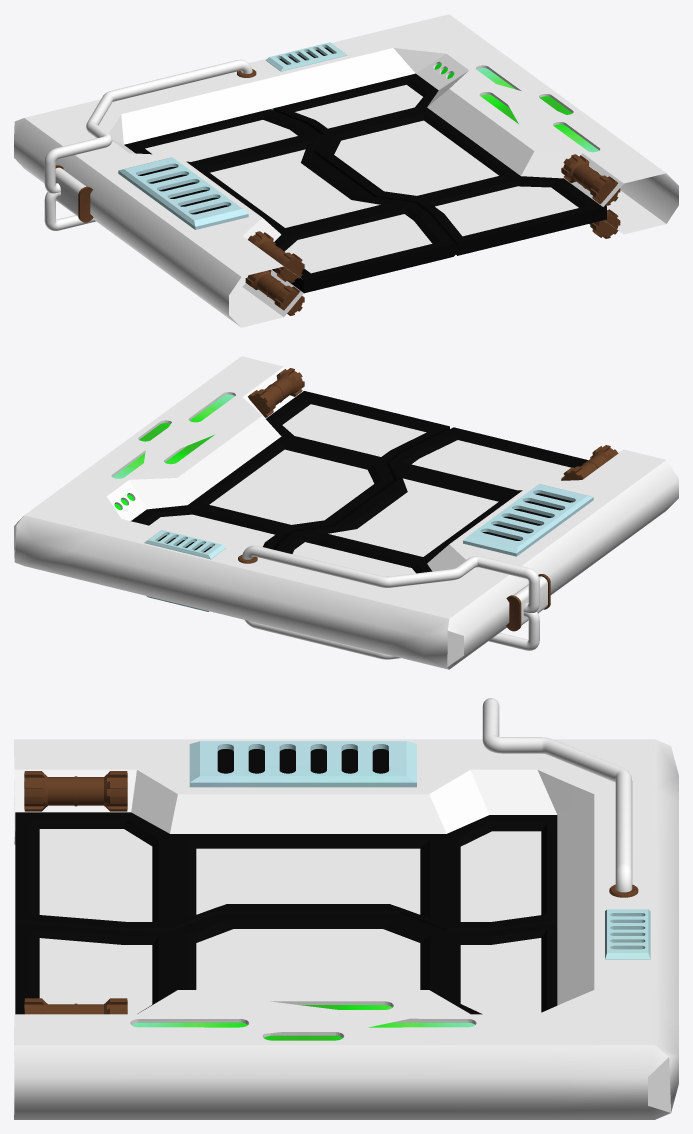
The model's file is Door_Textured.fbx.
The picture shows the model from 3 angles, top to bottom: view 1: azimuth 30°, elevation 25°; view 2: azimuth 150°, elevation 25°; view 3: azimuth 270°, elevation 25°; orthographic projection. The views are drawn at different scales.
Visible parts, largest first — view 1: Cube.003, Cube.002, Cube.001, Cube, Cylinder.006, Cylinder.001, Cylinder.002; view 2: Cube.003, Cube.002, Cube.001, Cube, Cylinder.001, Cylinder.006, Cylinder.002; view 3: Cube.003, Cube.001, Cube.002, Cube, Cylinder.001, Cylinder.006.
Boxes of the visible parts, x1,y1,x2,y2 form: Cube.003: (14, 14, 678, 327); Cube.002: (273, 73, 606, 255); Cube.001: (124, 109, 458, 293); Cube: (118, 42, 347, 229); Cylinder.006: (245, 154, 620, 315); Cylinder.001: (44, 59, 252, 230); Cylinder.002: (55, 165, 93, 222); Cube.003: (14, 356, 678, 669); Cube.002: (131, 391, 449, 549); Cube.001: (274, 427, 588, 576); Cube: (144, 484, 593, 611); Cylinder.001: (242, 545, 539, 659); Cylinder.006: (248, 368, 618, 480); Cylinder.002: (506, 574, 550, 631); Cube.003: (14, 739, 678, 1119); Cube.001: (15, 812, 557, 931); Cube.002: (15, 914, 557, 1014); Cube: (189, 741, 650, 959); Cylinder.001: (482, 698, 632, 892); Cylinder.006: (24, 771, 127, 1014).
Bounding box in the file's own units: 389 × 64.39 × 322.
